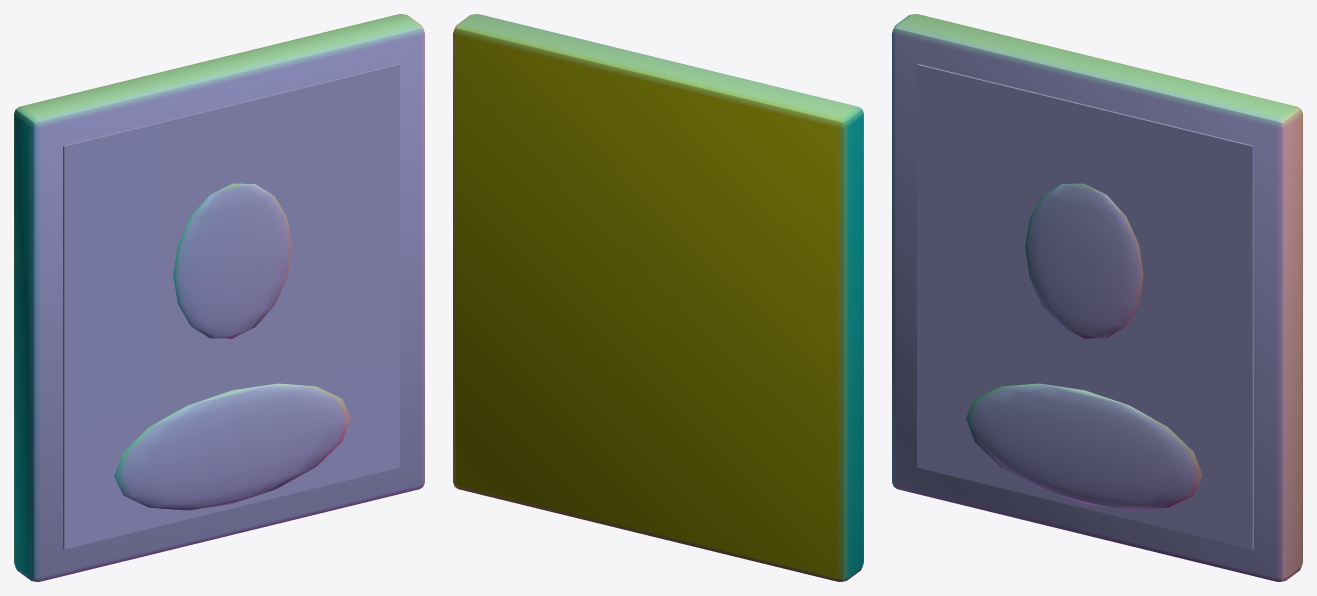
Rendered from parlour_portrait.glb.
3 views of the same model, side by side, from view 1: azimuth 30°, elevation 25°; view 2: azimuth 150°, elevation 25°; view 3: azimuth 330°, elevation 25° (orthographic).
Parts seen in each view (by area): view 1: parlour_portrait; view 2: parlour_portrait; view 3: parlour_portrait.
Part boxes in pixels (x1,y1,x2,y2): parlour_portrait: (14,14,424,581); parlour_portrait: (453,14,863,581); parlour_portrait: (892,14,1302,581).
Bounding box in the file's own units: 0.8 × 0.9 × 0.098.
